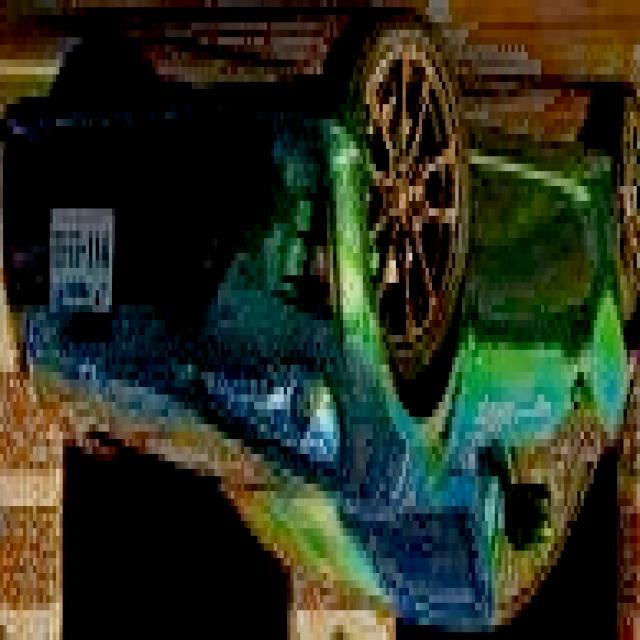green: (0, 74, 637, 640)
